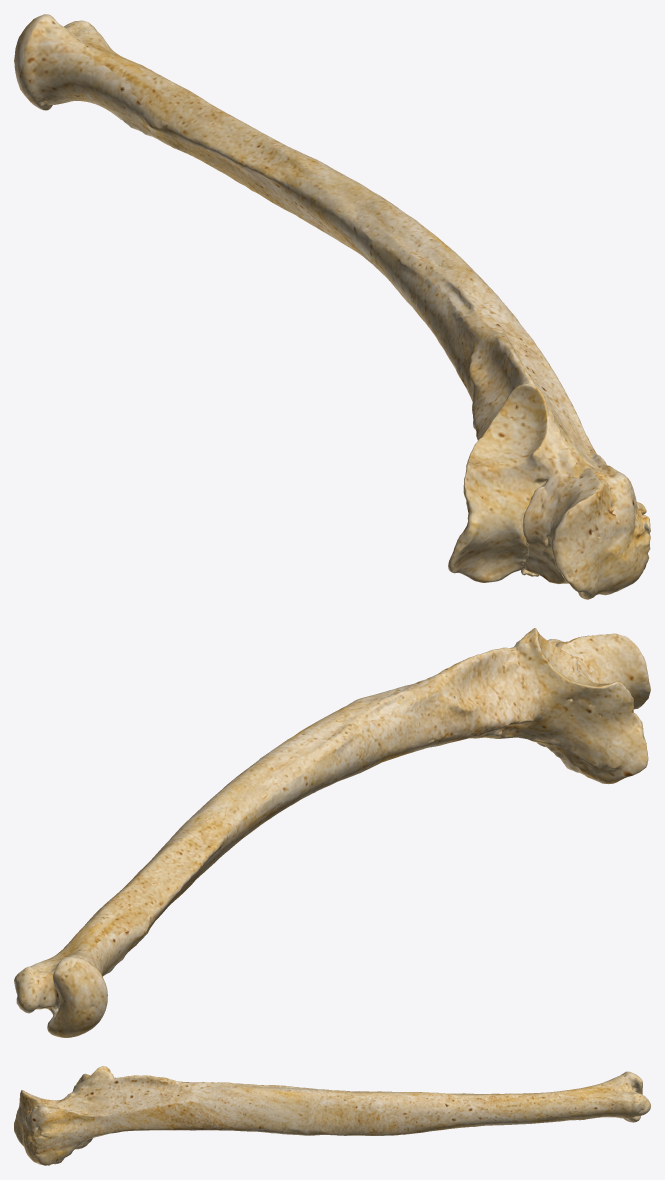
File: mountain-gorilla-ulna-right-1k-v01-textured-v03.glb
3 renders of one model, top to bottom at view 1: azimuth 30°, elevation 25°; view 2: azimuth 150°, elevation 25°; view 3: azimuth 270°, elevation 25°, orthographic. The views are drawn at different scales.
Visible parts, largest first — view 1: Mesh_0; view 2: Mesh_0; view 3: Mesh_0.
Boxes of the visible parts, left/top/right/bottom form: Mesh_0: left=14, top=14, right=650, bottom=599; Mesh_0: left=14, top=628, right=650, bottom=1037; Mesh_0: left=14, top=1066, right=650, bottom=1165.
Size of the model in its own units: 78.19 by 60.09 by 379.
1 material, 1 textured.
